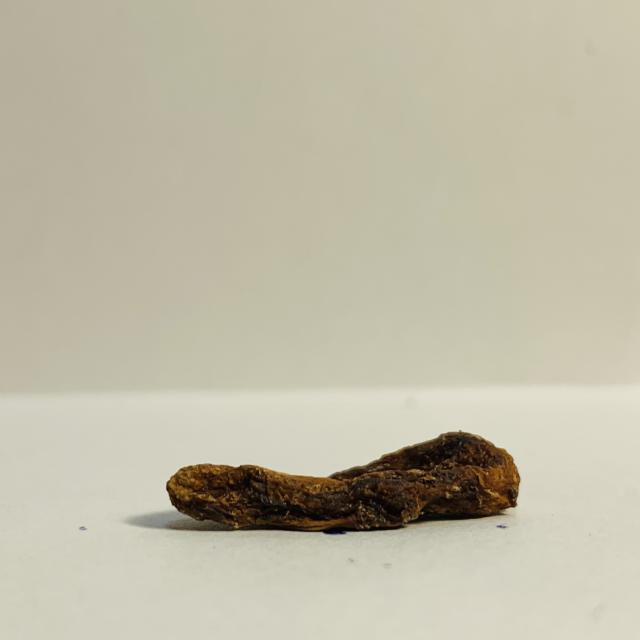Flat_cocoabeans: (156, 417, 575, 557)
